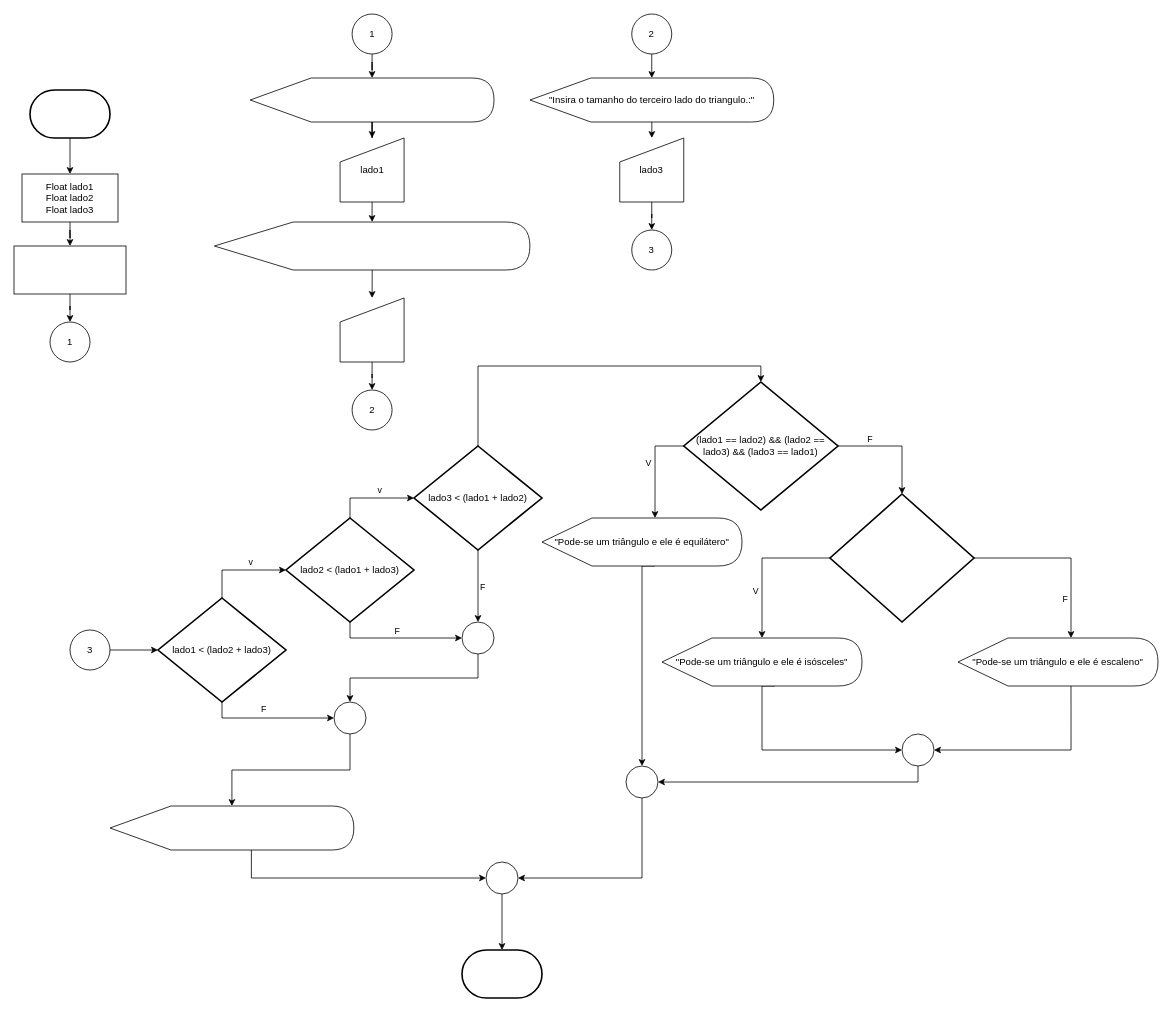
Some shapes in this 1172 by 1013 pixel diagram are drawn without their labels. Here are the shapes that lost their labels. From the top down, the centre of each, then its label:
(x=69, y=113): Inicio
(x=371, y=99): "Insira o tamanho do primeiro lado do triangulo.:"
(x=372, y=245): "Insira o tamanho do segundo lado do triangulo.:"
(x=69, y=269): lado1 = 0 lado2 = 0 lado3 = 0
(x=371, y=329): lado2
(x=901, y=557): (lado1 == lado2) || (lado2 == lado3) || (lado3 == lado1)
(x=231, y=827): "Não é um triângulo"
(x=501, y=973): FIM
